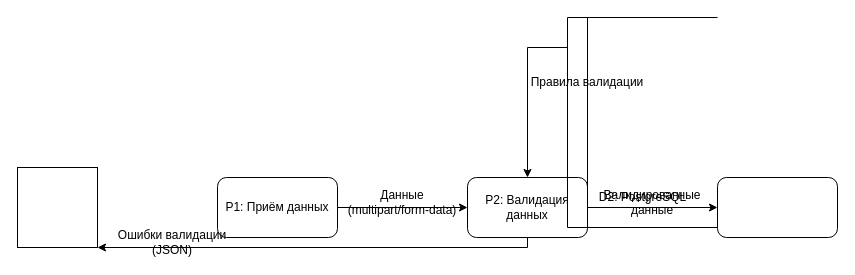
Some shapes in this 855 by 275 pixel diagram are drawn without their labels. The centre of each missing label's shape, as x and y in pixels:
"P3: ИИ-анализ" belongs at (x=777, y=207).
"Пациент" belongs at (x=57, y=207).
